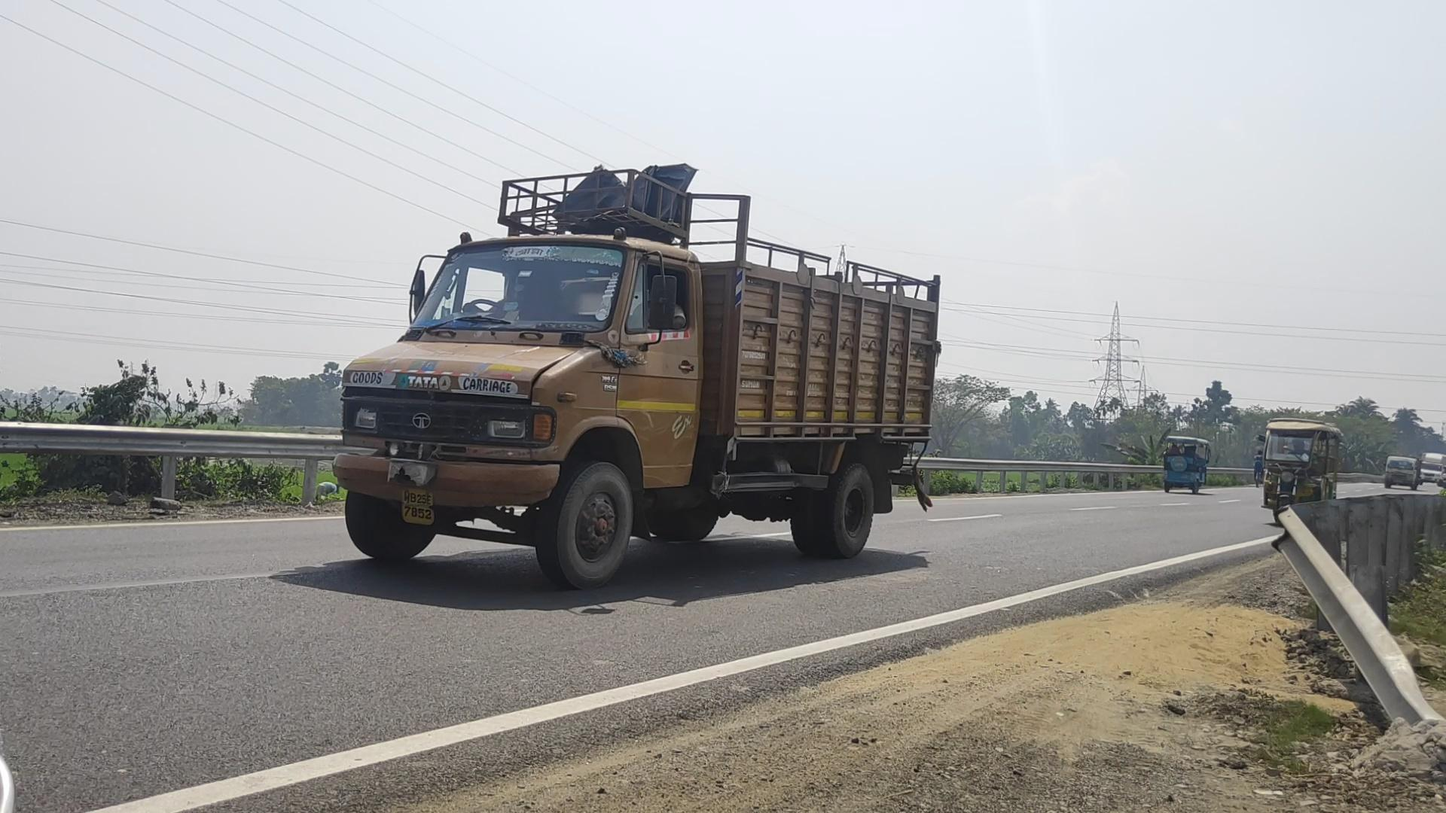Auto: (1258, 418, 1342, 517), (1163, 435, 1211, 495)
truck: (332, 163, 942, 592)
van: (1383, 454, 1422, 491), (1418, 452, 1446, 487)
